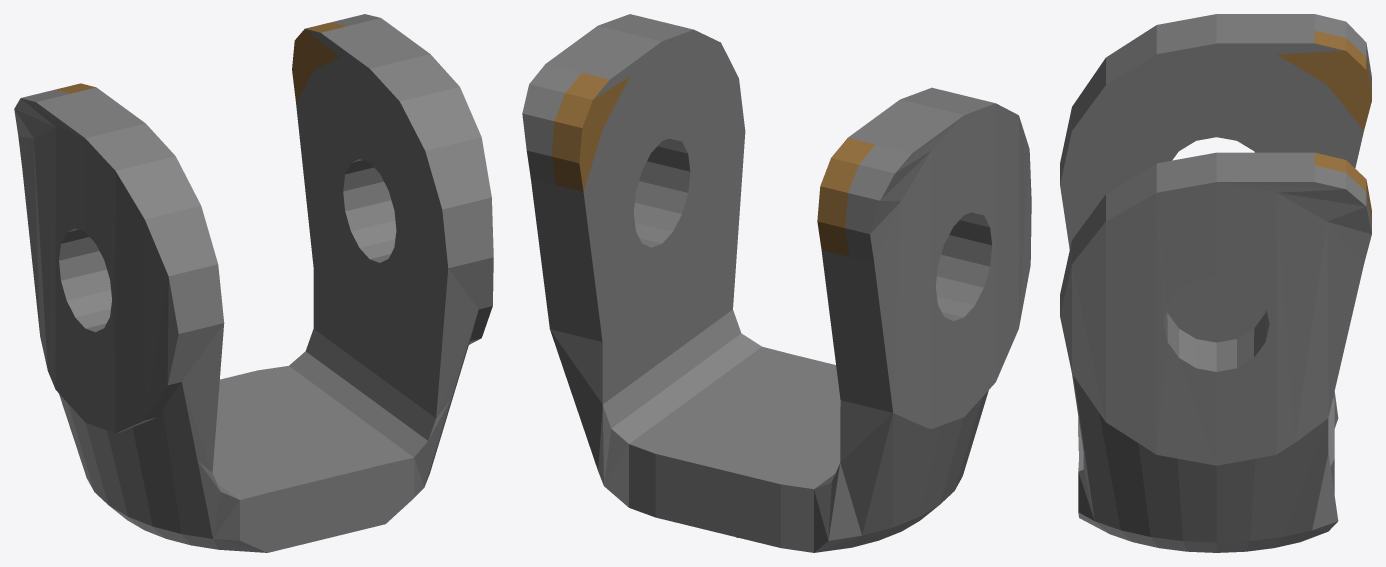
The picture shows the model from 3 angles, left to right: view 1: azimuth 30°, elevation 25°; view 2: azimuth 150°, elevation 25°; view 3: azimuth 270°, elevation 25°; orthographic projection. The views are drawn at different scales.
Parts seen in each view (by area): view 1: d0; view 2: d0; view 3: d0.
Part boxes in pixels (left/top/right/bottom): d0: left=14, top=14, right=493, bottom=552; d0: left=522, top=14, right=1031, bottom=552; d0: left=1060, top=14, right=1371, bottom=552.
Bounding box in the file's own units: 30.33 × 23.79 × 34.41.
